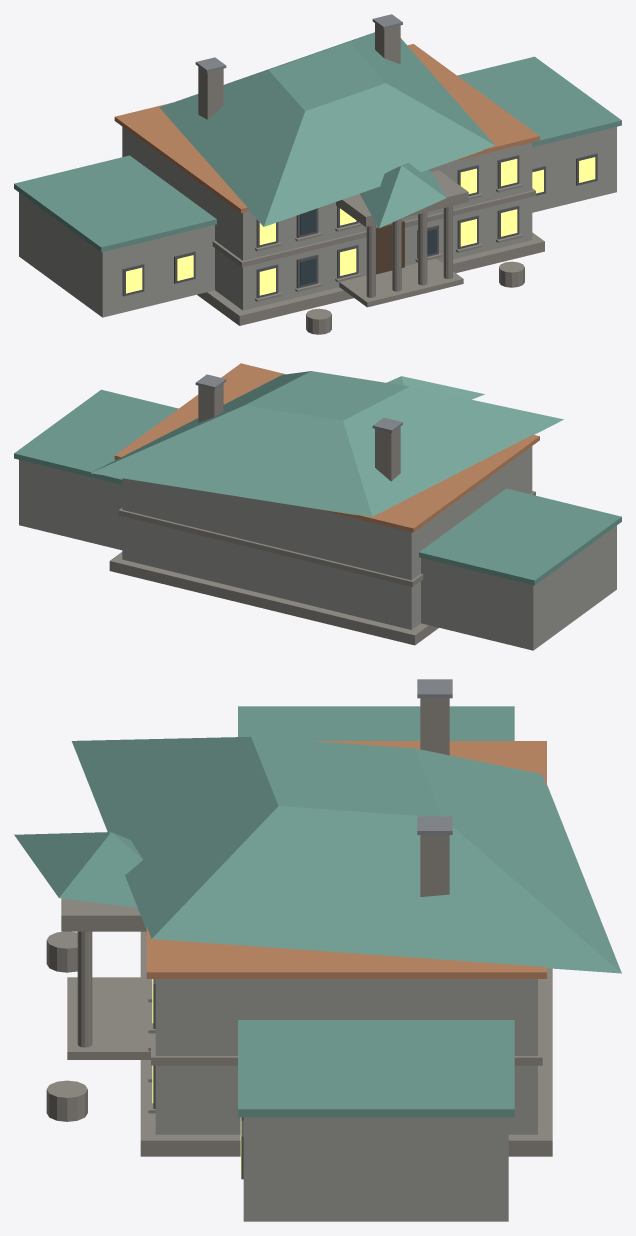
Rendered from estate.glb.
3 views of the same model, one above another, from view 1: azimuth 30°, elevation 25°; view 2: azimuth 150°, elevation 25°; view 3: azimuth 270°, elevation 25° (orthographic). The views are drawn at different scales.
Visible parts, largest first — view 1: estate; view 2: estate; view 3: estate.
Boxes of the visible parts, box(x1,y1,x2,y2) form: estate: box(14, 14, 621, 334); estate: box(14, 363, 621, 650); estate: box(14, 679, 621, 1221).
Bounding box in the file's own units: 32.4 × 10.62 × 20.66.
